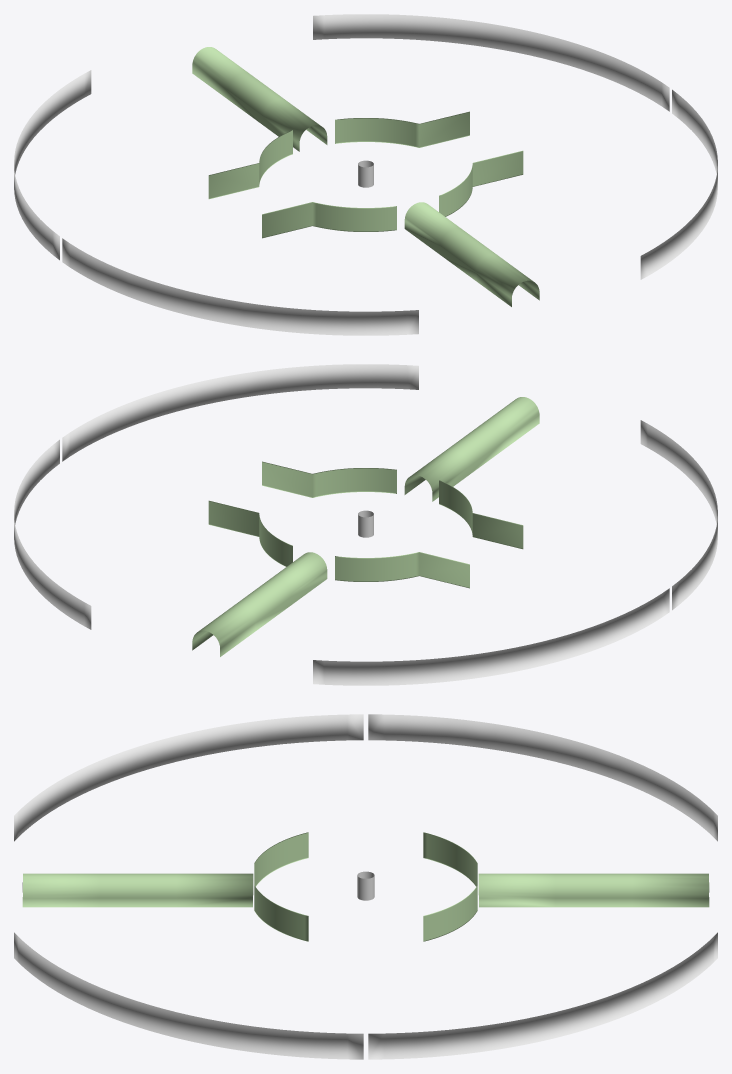
File: fish_environment_1_3_water_only.glb
3 renders of one model, top to bottom at view 1: azimuth 30°, elevation 25°; view 2: azimuth 150°, elevation 25°; view 3: azimuth 270°, elevation 25°, orthographic. The views are drawn at different scales.
Visible parts, largest first — view 1: the big fish tank.004, the big fish tank.007, tunnel.002, tunnel.003, tilapia_tank.004, tilapia_tank.005, the big fish tank.005, the big fish tank.006, tilapia_tank.007, tilapia_tank.006; view 2: the big fish tank.005, the big fish tank.006, tunnel.003, tunnel.002, tilapia_tank.006, tilapia_tank.007, the big fish tank.004, the big fish tank.007, tilapia_tank.005, tilapia_tank.004; view 3: the big fish tank.004, the big fish tank.005, the big fish tank.006, the big fish tank.007, tunnel.003, tunnel.002, tilapia_tank.006, tilapia_tank.004, tilapia_tank.005, tilapia_tank.007.
Boxes of the visible parts, box(x1,y1,x2,y2) form: the big fish tank.004: box(62, 238, 418, 335); the big fish tank.007: box(313, 14, 669, 111); tunnel.002: box(404, 202, 539, 306); tunnel.003: box(192, 47, 327, 151); tilapia_tank.004: box(335, 111, 469, 147); tilapia_tank.005: box(262, 202, 396, 238); the big fish tank.005: box(640, 89, 717, 279); the big fish tank.006: box(14, 70, 91, 260); tilapia_tank.007: box(208, 130, 292, 199); tilapia_tank.006: box(439, 150, 523, 216); the big fish tank.005: box(62, 364, 418, 461); the big fish tank.006: box(313, 588, 669, 685); tunnel.003: box(192, 552, 327, 656); tunnel.002: box(404, 397, 539, 501); tilapia_tank.006: box(262, 461, 396, 497); tilapia_tank.007: box(335, 552, 469, 588); the big fish tank.004: box(640, 420, 717, 610); the big fish tank.007: box(14, 439, 91, 629); tilapia_tank.005: box(439, 480, 523, 549); tilapia_tank.004: box(208, 500, 292, 566); the big fish tank.004: box(14, 714, 363, 841); the big fish tank.005: box(14, 932, 363, 1059); the big fish tank.006: box(368, 714, 717, 841); the big fish tank.007: box(368, 932, 717, 1059); tunnel.003: box(478, 873, 709, 907); tunnel.002: box(22, 873, 253, 907); tilapia_tank.006: box(254, 885, 308, 941); tilapia_tank.004: box(423, 885, 477, 941); tilapia_tank.005: box(254, 832, 308, 886); tilapia_tank.007: box(423, 832, 477, 886).
Size of the model in its own units: 66 by 2.5 by 61.48.
